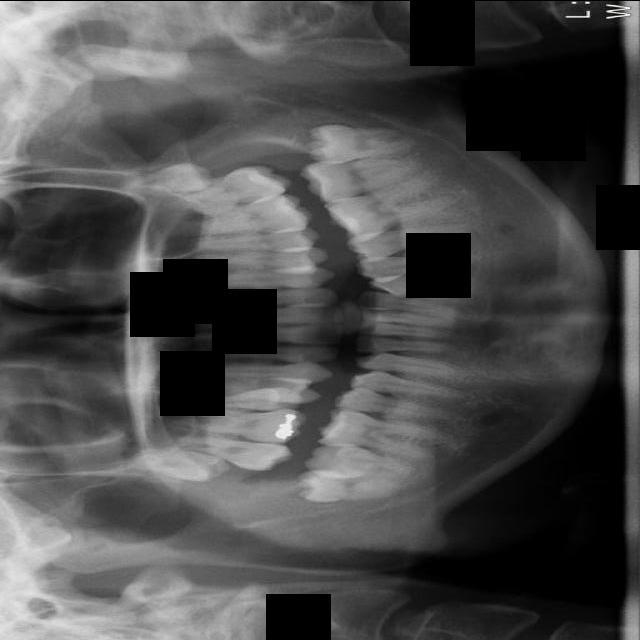3M ESPE Implant: (129, 441, 234, 487)
52: (258, 400, 310, 456)
BioHorizons Implant: (168, 163, 293, 203)
BioLife Implant: (128, 160, 212, 191)
Biomet 3i Implant: (305, 115, 415, 167)
Blue Sky Bio Implant: (297, 155, 424, 205)
Caries: (165, 434, 294, 473)
Implant: (303, 440, 416, 481)
Keystone Dental Implant: (297, 469, 398, 503)
